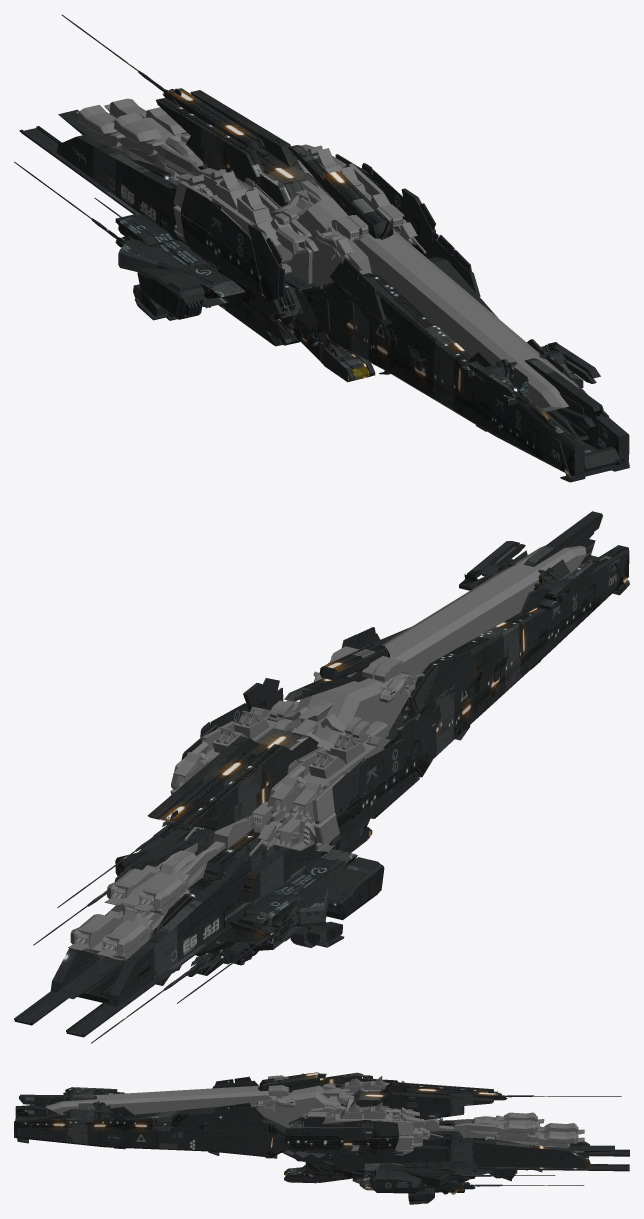
Rendered from fleet.gltf.
3 renders of one model, top to bottom at view 1: azimuth 30°, elevation 25°; view 2: azimuth 150°, elevation 25°; view 3: azimuth 270°, elevation 25°, orthographic. The views are drawn at different scales.
Visible parts, largest first — view 1: body_main01, frame01, body_front01, Detail01, body_rear01, bridge01; view 2: body_main01, frame01, Detail01, body_front01, body_rear01; view 3: body_main01, frame01, body_front01, Detail01, body_rear01, bridge01.
Part boxes in pixels (bbox=[...]): body_main01: bbox=[19, 88, 438, 319]; frame01: bbox=[75, 98, 579, 411]; body_front01: bbox=[306, 257, 629, 476]; Detail01: bbox=[14, 14, 629, 482]; body_rear01: bbox=[133, 160, 324, 346]; bridge01: bbox=[277, 319, 375, 382]; body_main01: bbox=[14, 643, 436, 1037]; frame01: bbox=[68, 545, 586, 960]; Detail01: bbox=[33, 511, 629, 1043]; body_front01: bbox=[361, 545, 629, 759]; body_rear01: bbox=[138, 824, 384, 985]; body_main01: bbox=[258, 1072, 629, 1187]; frame01: bbox=[45, 1075, 584, 1155]; body_front01: bbox=[14, 1086, 291, 1157]; Detail01: bbox=[14, 1076, 621, 1192]; body_rear01: bbox=[284, 1138, 542, 1204]; bridge01: bbox=[284, 1162, 370, 1183].
Bounding box in the file's own units: 6.13 × 5.88 × 27.85.
Materials: 3 (1 with a texture image).
